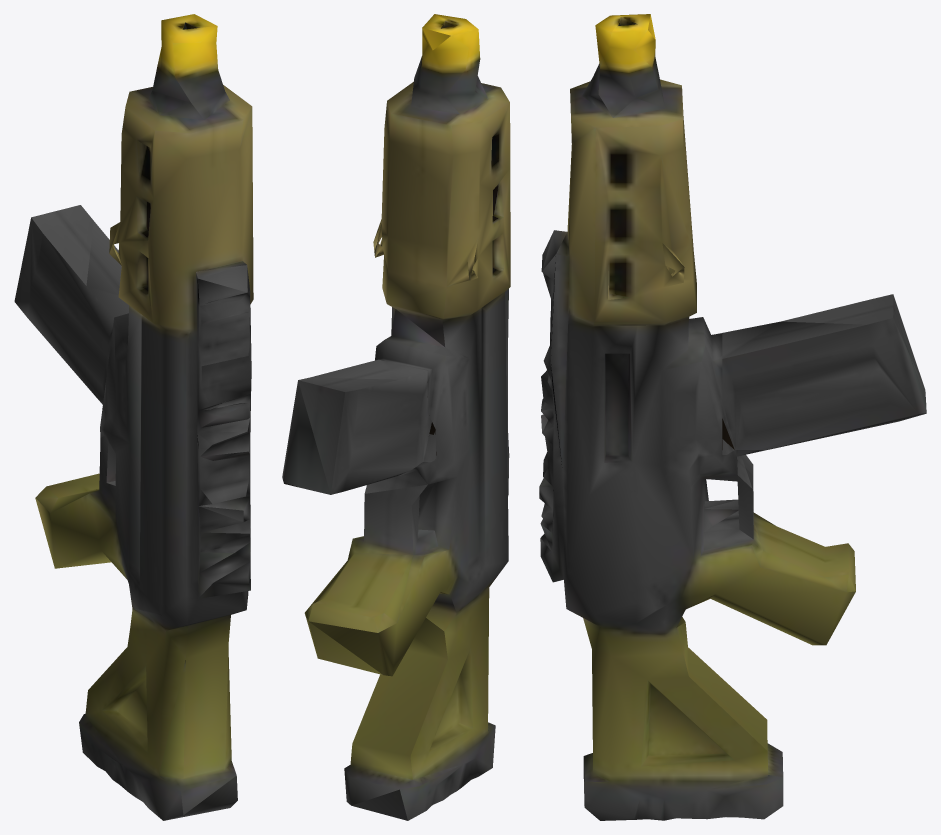
3 renders of one model, left to right at view 1: azimuth 30°, elevation 25°; view 2: azimuth 150°, elevation 25°; view 3: azimuth 270°, elevation 25°, orthographic. The views are drawn at different scales.
Visible parts, largest first — view 1: k47, part_mag; view 2: k47, part_mag; view 3: k47, part_mag.
Part boxes in pixels (x1=…): k47: x1=35, y1=14, x2=253, y2=820; part_mag: x1=14, y1=205, x2=128, y2=411; k47: x1=284, y1=14, x2=510, y2=820; part_mag: x1=282, y1=359, x2=436, y2=494; k47: x1=539, y1=14, x2=926, y2=820; part_mag: x1=722, y1=294, x2=926, y2=454.
Size of the model in its own units: 0.124 by 0.918 by 0.4105.
1 material, 1 textured.
